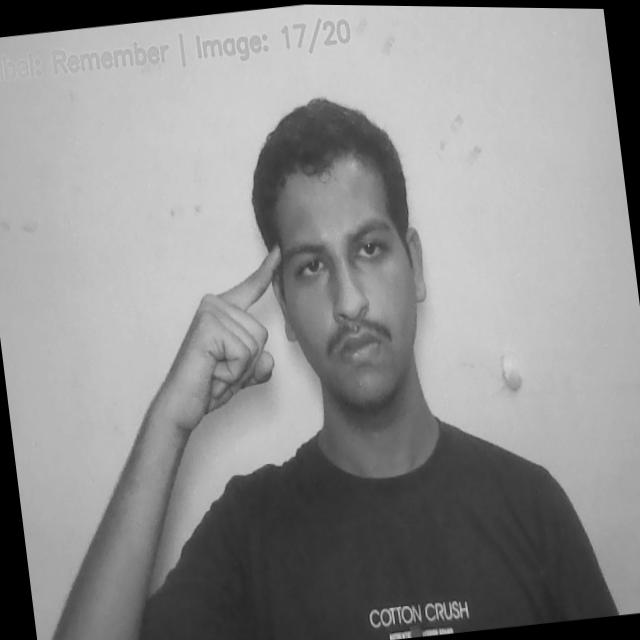Remember: (141, 249, 303, 434)
